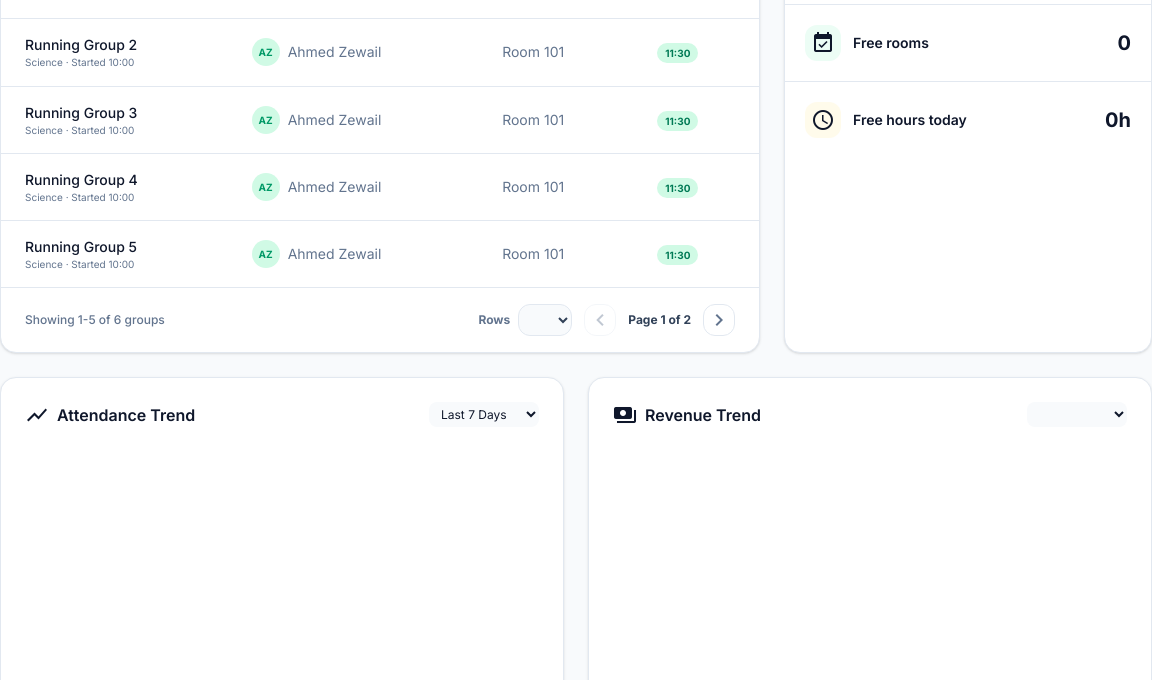
TenantDashboardComponent › paginates running groups with five visible rows per page
This screenshot has width=1152, height=680.
(page scrolled)
Expected: the text "Running Group 6" is not shown
Click the button named "Next running groups page".
click(719, 320)  # box x1=703 y1=304 x2=735 y2=336
(page scrolled)
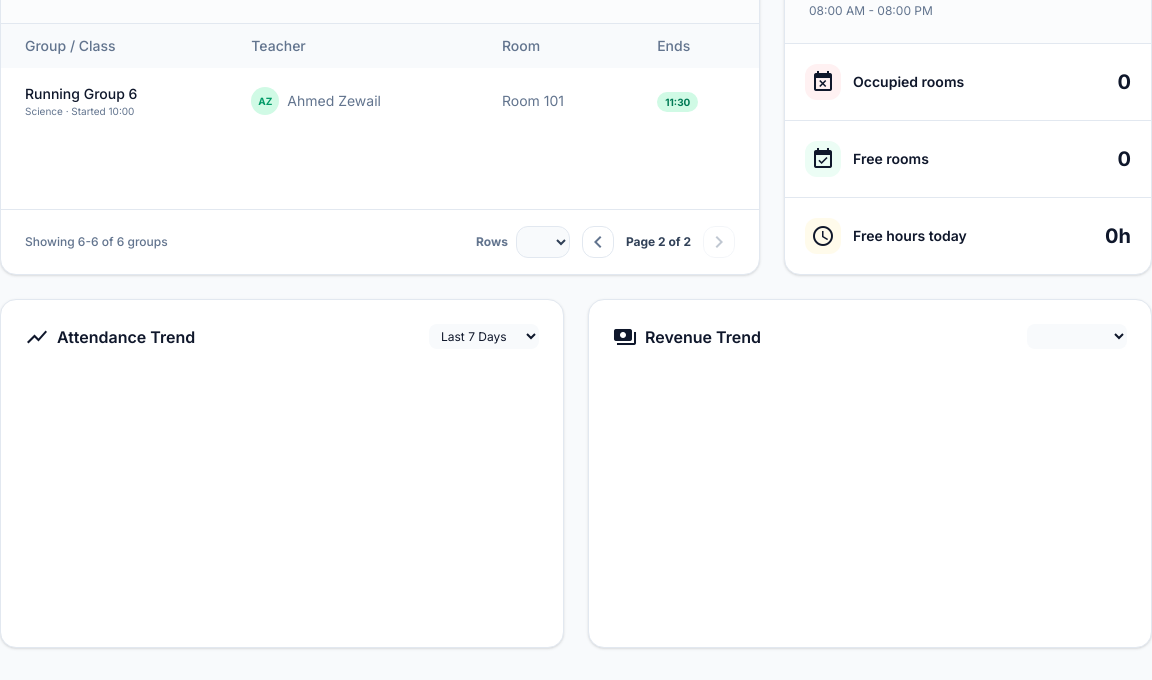
Expected: the text "Showing 6-6 of 6 groups" is shown, x1=25 y1=234 x2=168 y2=250
Expected: the text "Running Group 6" is shown, x1=25 y1=85 x2=137 y2=102
Select "10" in the dropdown named "Running groups rows per page" at (543, 242), box x1=516 y1=226 x2=570 y2=258
(page scrolled)
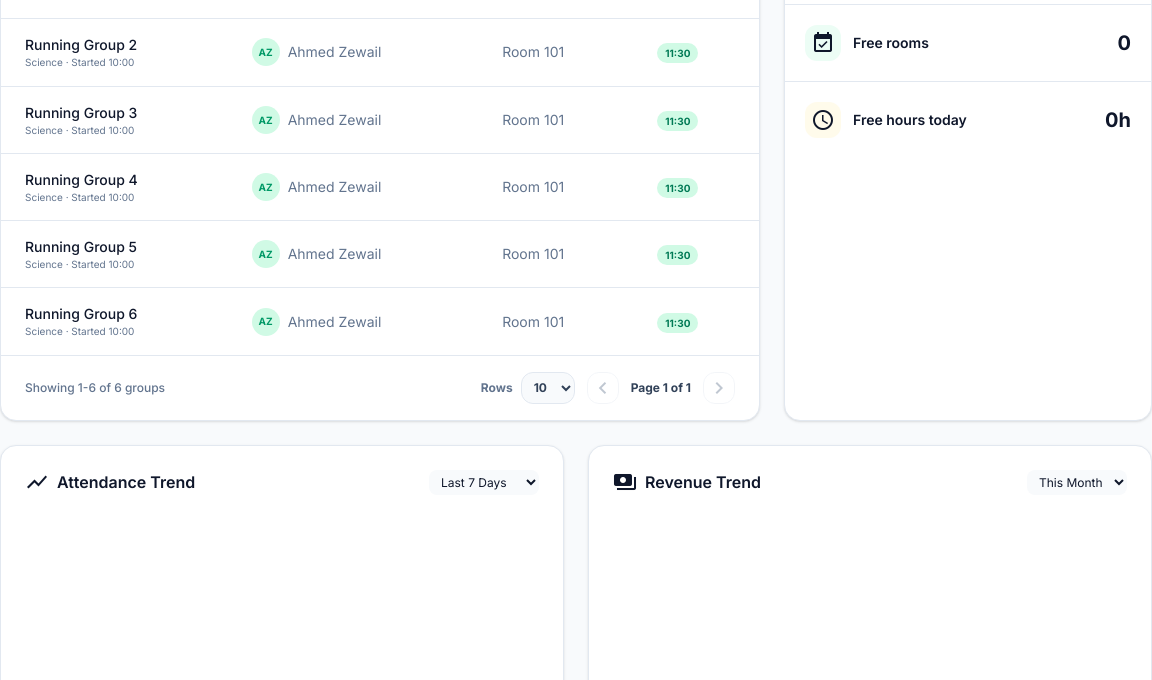
Expected: the text "Showing 1-6 of 6 groups" is shown, x1=25 y1=380 x2=165 y2=396
Expected: the text "Page 1 of 1" is shown, x1=631 y1=380 x2=691 y2=396
